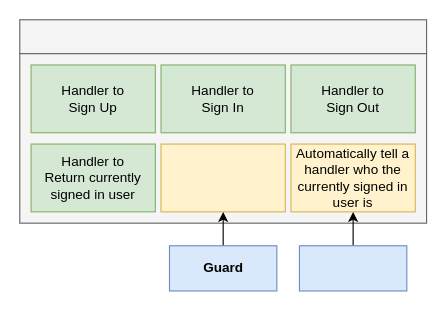
This 446x311 diagram has some shape labels left out. Here are the shapes that lost their labels. From the top down, the box of each, then its label:
(19, 19, 427, 54): Common Auth System Features
(160, 143, 285, 212): Reject requests to certain handlers if the user is not signed in
(298, 245, 407, 291): Interceptor + Decorator
